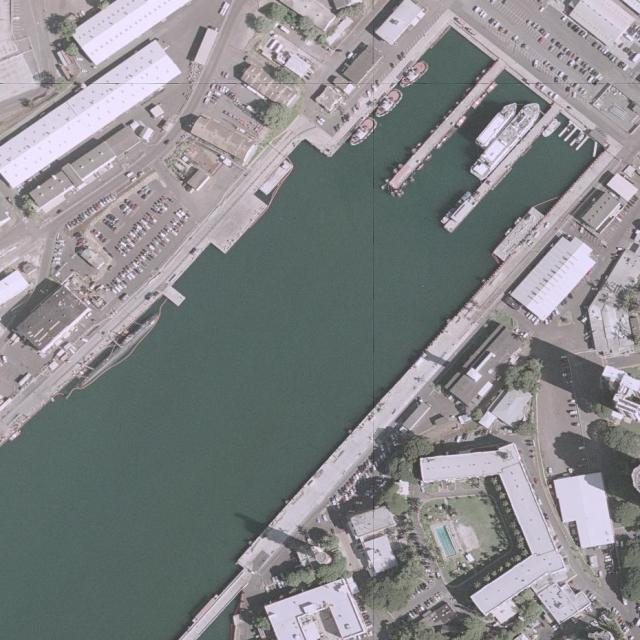Dock: (387, 57, 504, 189), (442, 105, 561, 232)
Hovercraft: (395, 57, 431, 90), (372, 86, 405, 120), (346, 115, 378, 149)
Other Warship: (470, 96, 547, 183), (473, 97, 522, 151)
Submarine: (75, 311, 163, 390)
